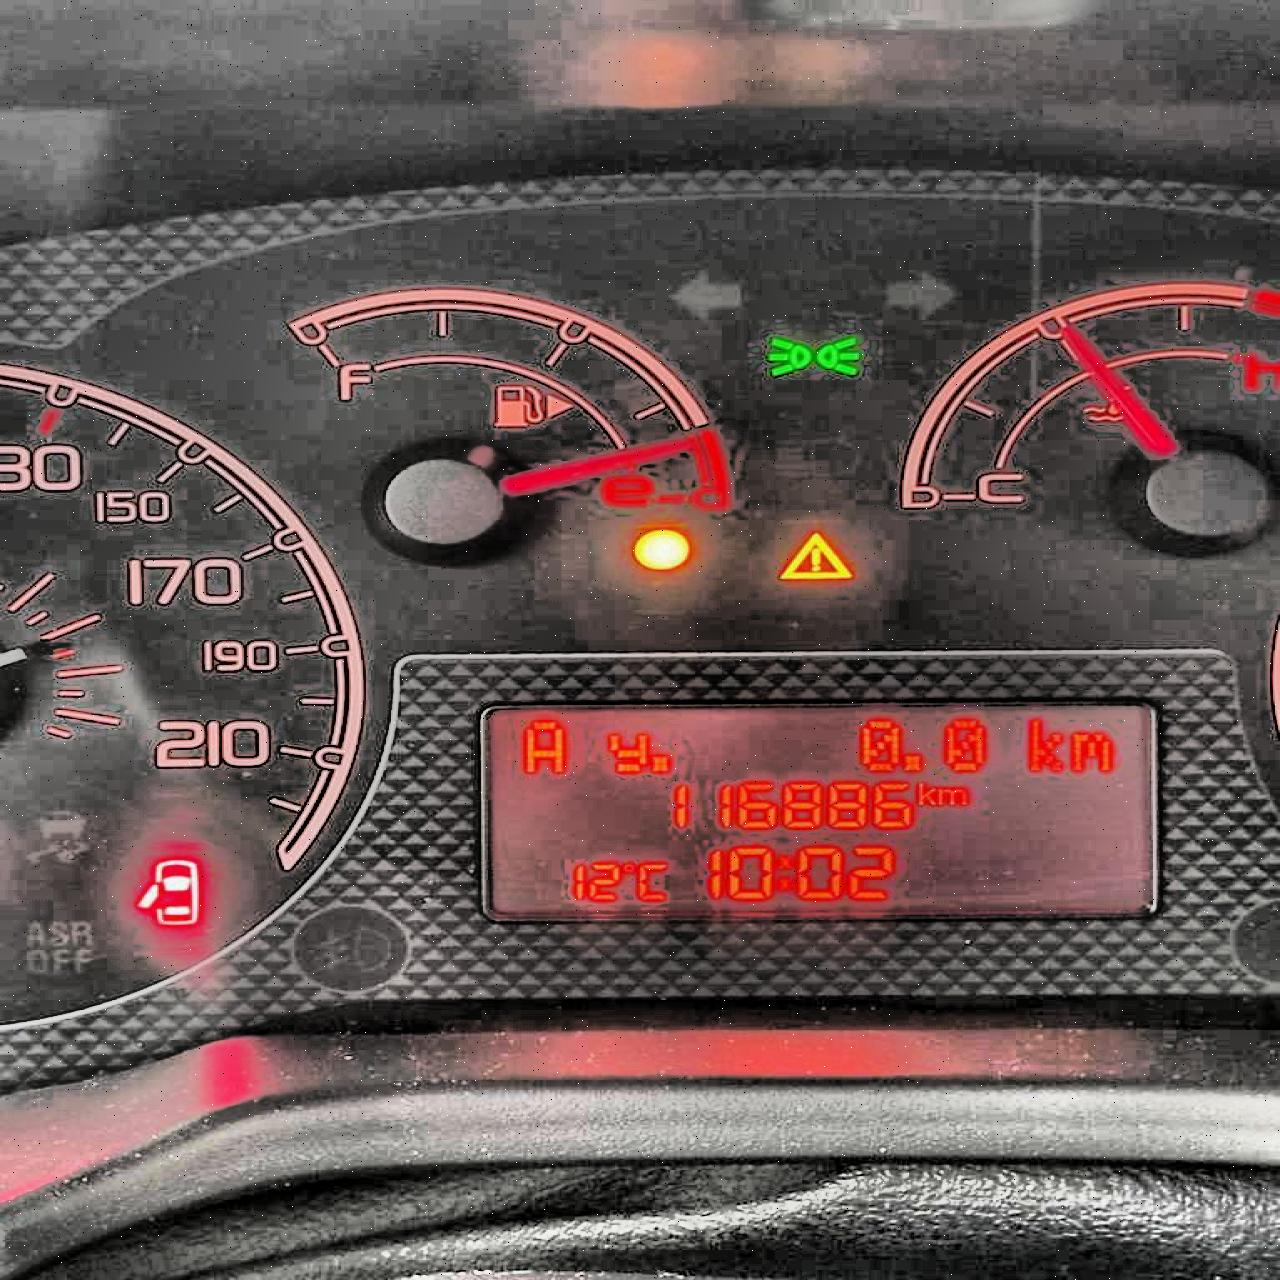-: (648, 751, 669, 774), (903, 751, 924, 771)
0: (723, 840, 776, 901), (938, 714, 989, 772), (794, 843, 844, 903), (852, 714, 903, 772)
1: (667, 779, 692, 830), (702, 846, 723, 901), (710, 779, 734, 829), (566, 860, 585, 901)
2: (845, 842, 898, 903), (586, 858, 620, 903)
6: (869, 777, 914, 831), (734, 777, 778, 831)
8: (825, 777, 869, 831), (779, 778, 824, 830)
X: (518, 716, 566, 775), (1020, 712, 1064, 774), (1064, 727, 1117, 772), (601, 729, 651, 775), (635, 858, 668, 904), (934, 784, 968, 806), (775, 851, 791, 893), (914, 777, 934, 806)
odometer: (475, 697, 1163, 925)
